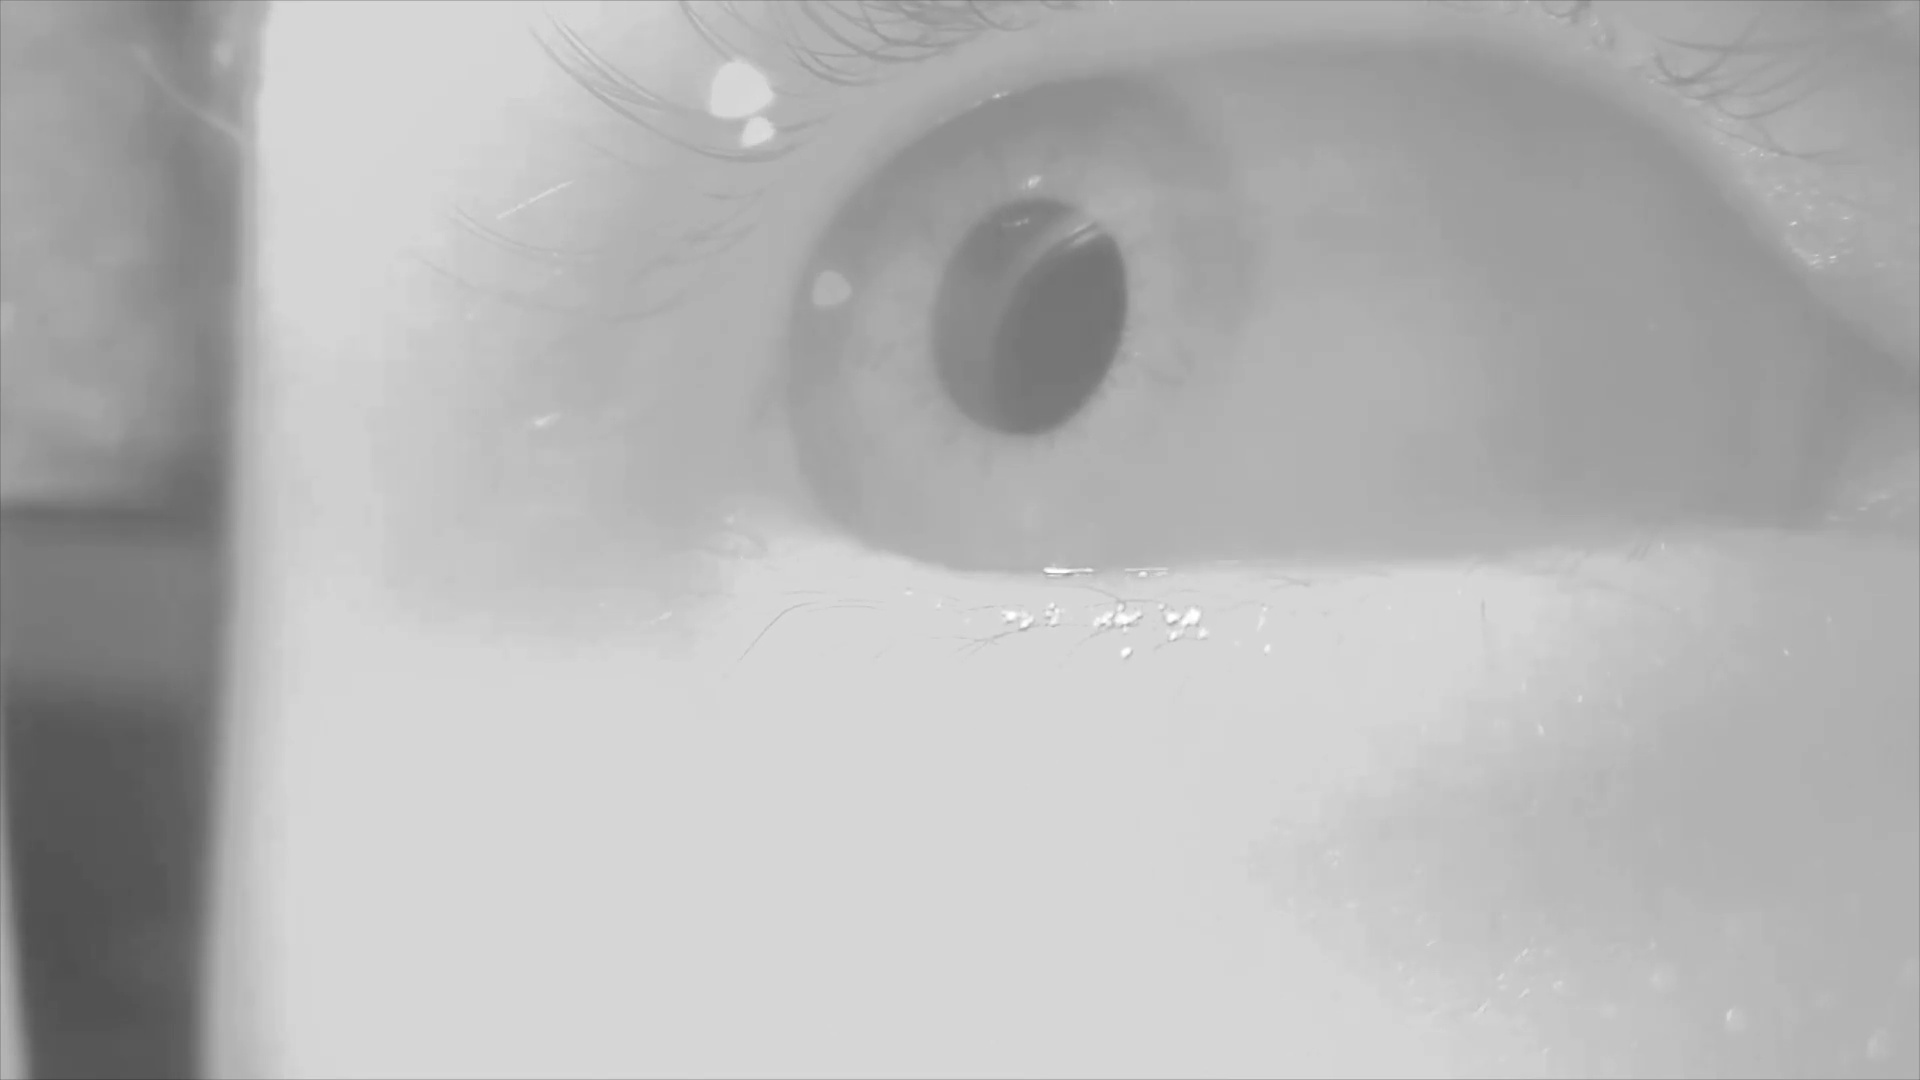pupil: (933, 201, 1133, 436)
